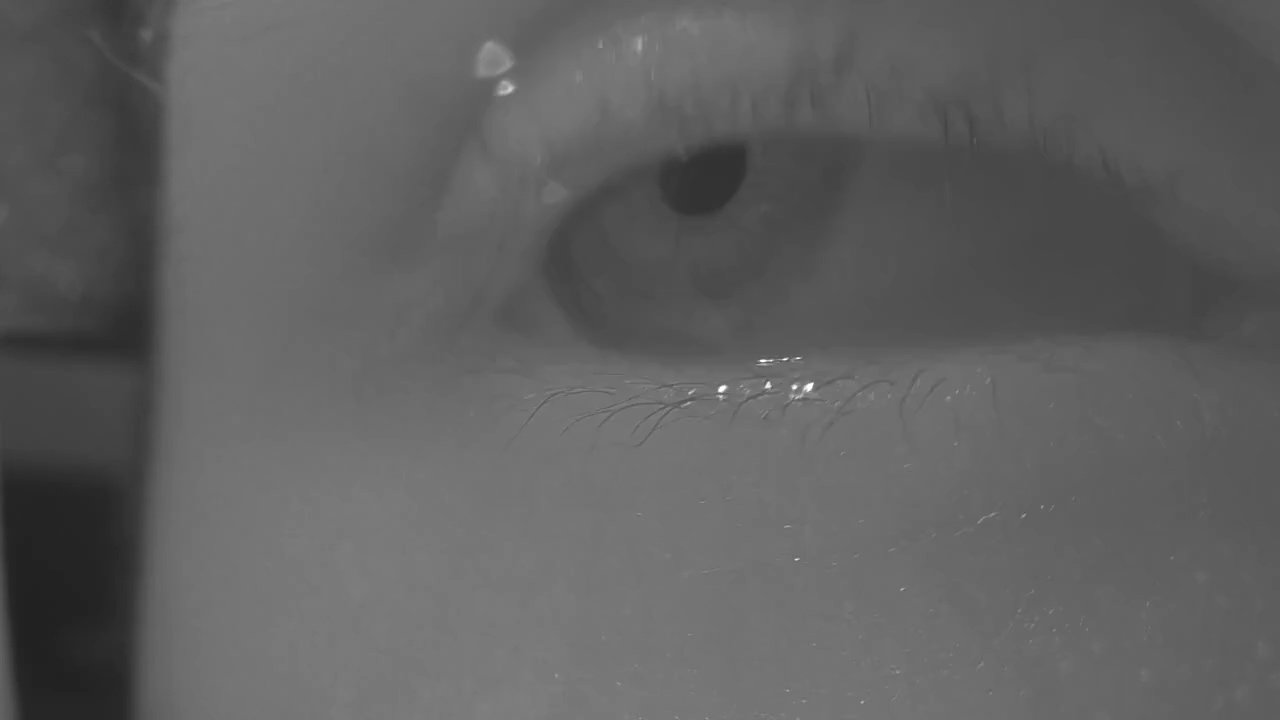pupil: (657, 140, 747, 216)
